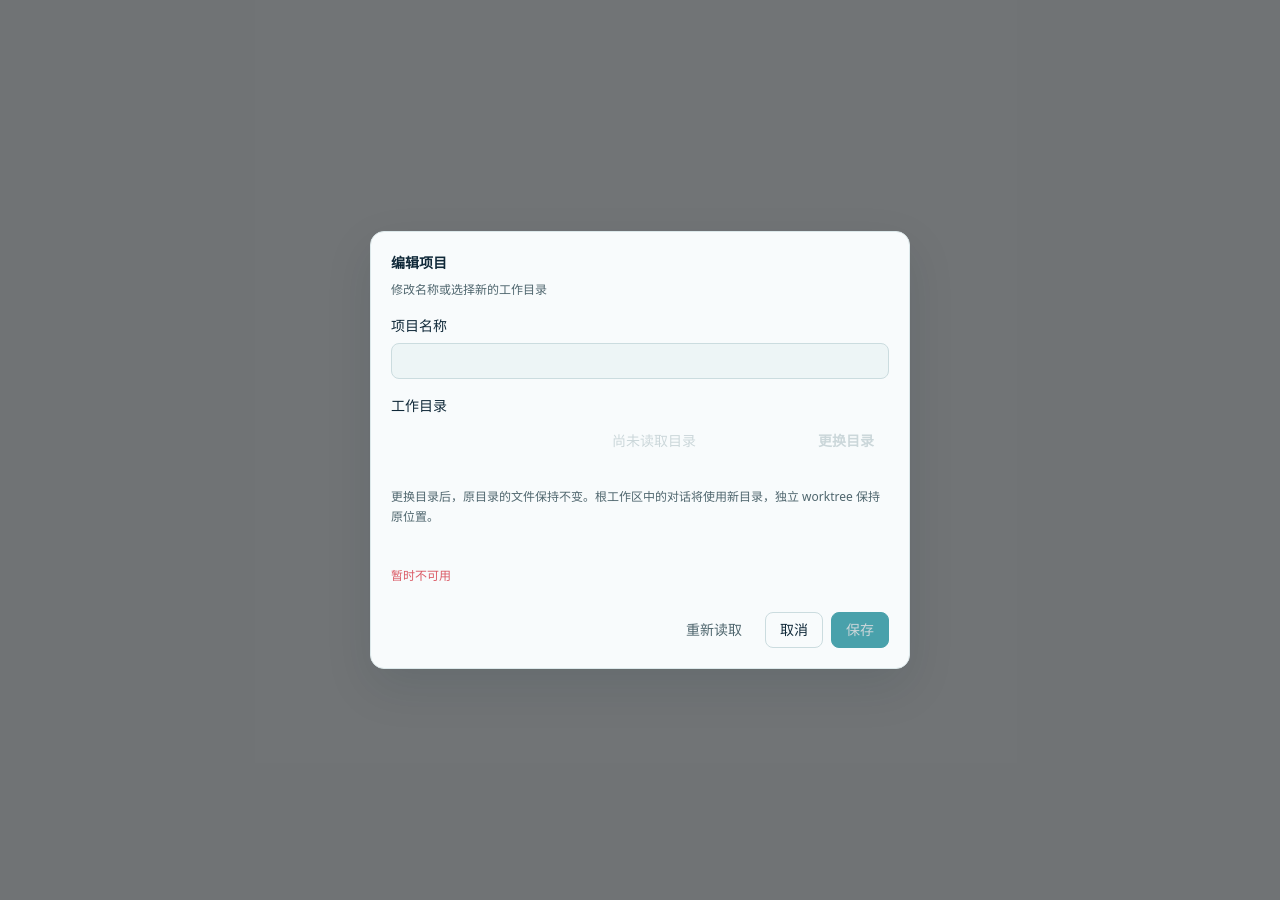
EditProjectDialog › 读取失败不允许保存，重试成功后可编辑
The width and height of the screenshot is (1280, 900).
Expected: the message "暂时不可用" is shown, [391,567,451,584]
Expected: the button with test id "edit-project-save" is disabled, [831,612,889,648]
What coordinates should you click on to do the following:
click the button "重新读取"
I would click on:
 (714, 630)
Its box is [671,612,757,648].
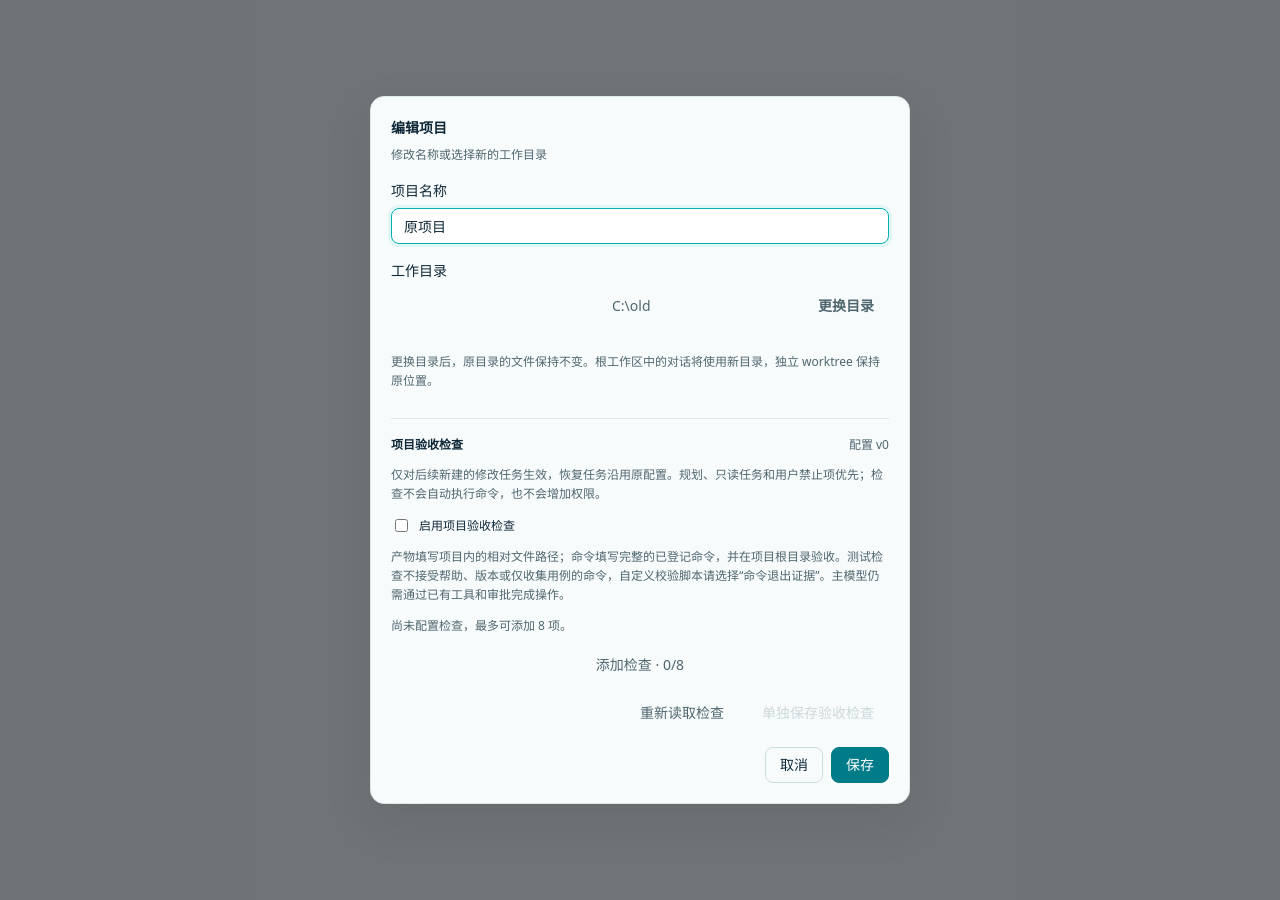
Now the button with test id "edit-project-save" is enabled, box [831,747,889,783]
